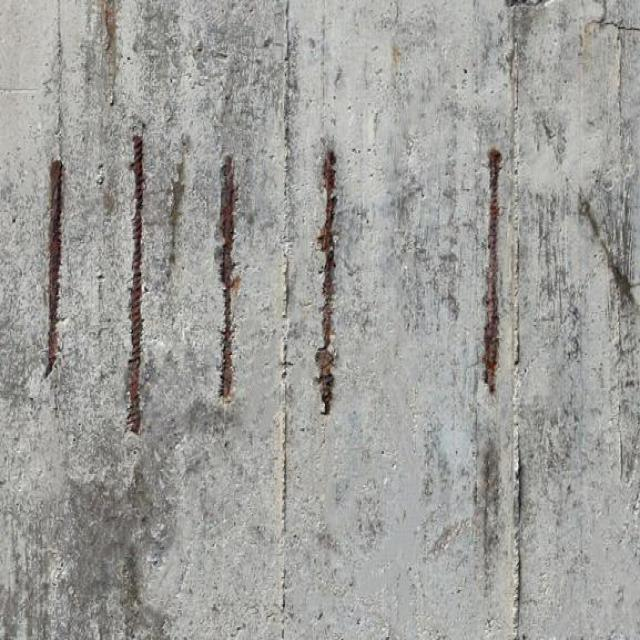Rebar: (316, 148, 340, 416), (217, 156, 242, 402), (126, 132, 146, 438), (43, 157, 67, 378), (482, 146, 503, 395)
horizontal crack: (583, 18, 640, 34)
